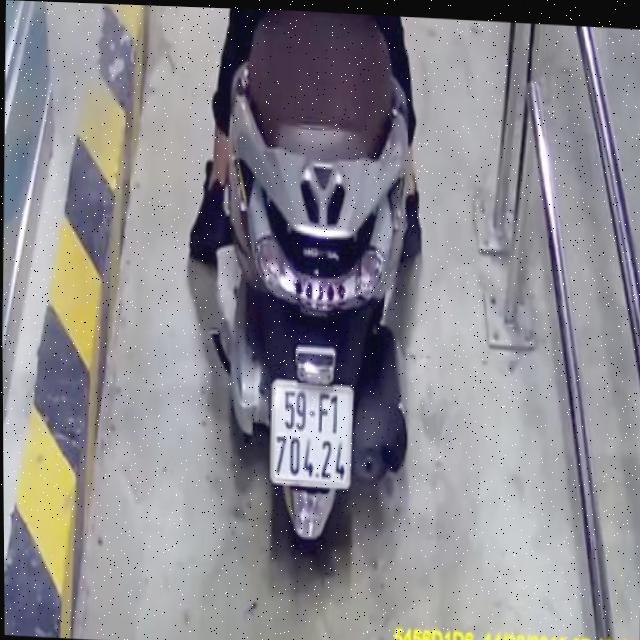motorcycle: (203, 12, 419, 568)
plate: (259, 372, 357, 488)
